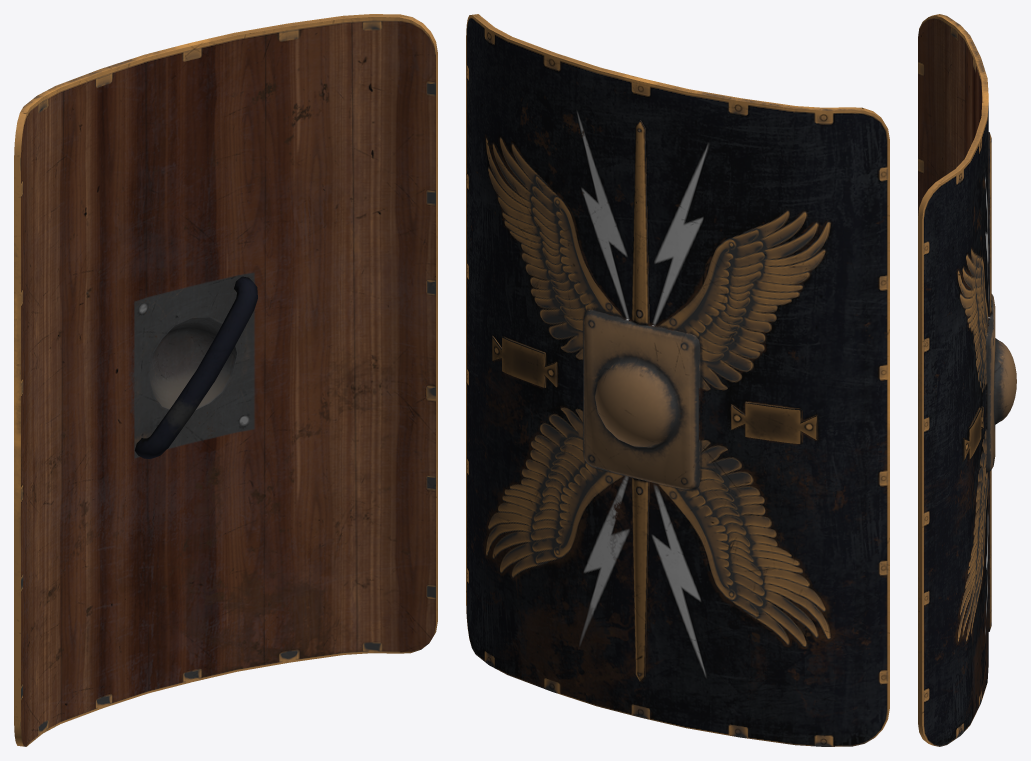
The model's file is roman_shield.glb.
3 views of the same model, side by side, from view 1: azimuth 30°, elevation 25°; view 2: azimuth 150°, elevation 25°; view 3: azimuth 270°, elevation 25° (orthographic). The views are drawn at different scales.
Parts seen in each view (by area): view 1: Roman shield_1,02.000, Roman shield_1,02.006; view 2: Roman shield_1,02.000, Roman shield_1,02.001, Roman shield_1,02.002, Roman shield_1,02.003, Roman shield_1,02.004, Roman shield_1,02.005; view 3: Roman shield_1,02.000, Roman shield_1,02.001, Roman shield_1,02.002, Roman shield_1,02.005, Roman shield_1,02.003.
Boxes of the visible parts, box(x1,y1,x2,y2) form: Roman shield_1,02.000: box(14, 14, 437, 746); Roman shield_1,02.006: box(135, 276, 257, 458); Roman shield_1,02.000: box(466, 14, 889, 746); Roman shield_1,02.001: box(583, 309, 700, 489); Roman shield_1,02.002: box(631, 120, 649, 325); Roman shield_1,02.003: box(631, 477, 649, 682); Roman shield_1,02.004: box(731, 401, 817, 444); Roman shield_1,02.005: box(492, 335, 556, 387); Roman shield_1,02.000: box(918, 14, 988, 746); Roman shield_1,02.001: box(985, 294, 1016, 472); Roman shield_1,02.002: box(988, 132, 991, 315); Roman shield_1,02.005: box(962, 406, 983, 461); Roman shield_1,02.003: box(988, 470, 991, 631).
Bounding box in the file's own units: 3.55 × 5.09 × 0.8067.
1 material, 1 textured.
